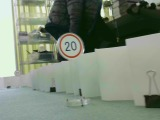speed_20: (57, 32, 83, 60)
